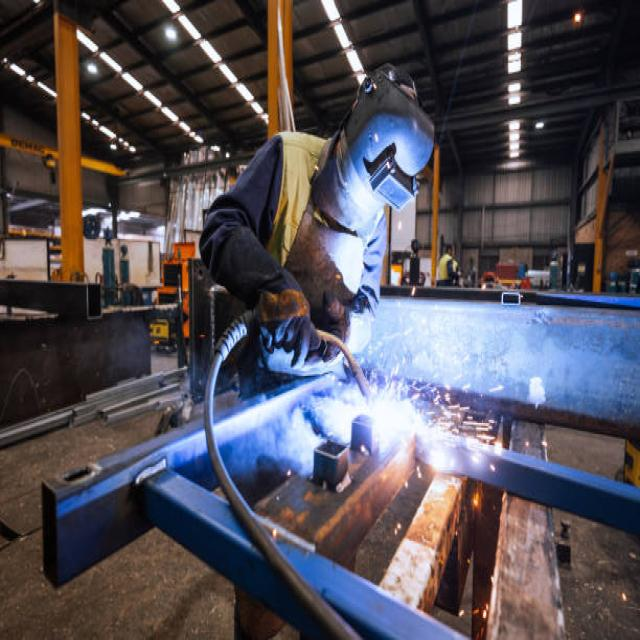with_helmet: (314, 54, 440, 246)
